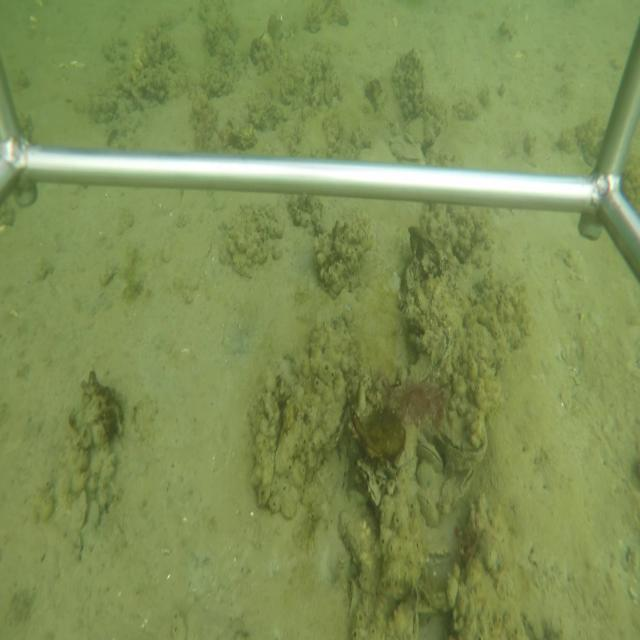Oyster-Closed: (310, 366, 349, 453), (335, 506, 379, 577), (437, 418, 489, 464), (353, 455, 381, 509), (453, 467, 476, 509), (417, 436, 444, 471)
Oyster-Indeterminate: (408, 224, 442, 276)
Oyster-Open: (419, 529, 455, 566)
